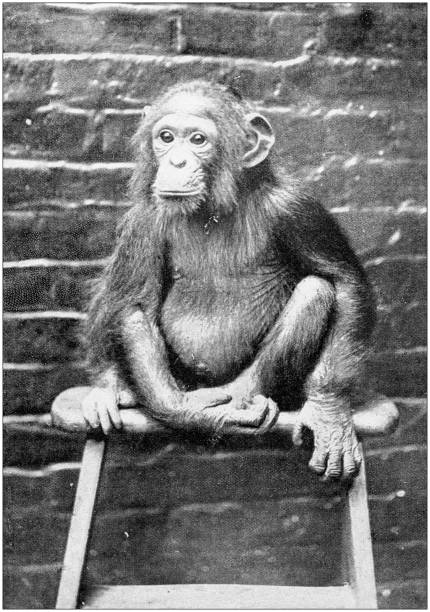chimpanzee: (123, 64, 306, 236)
